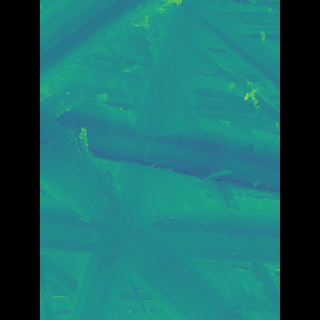Loch: (69, 96, 226, 319), (97, 114, 252, 202)
